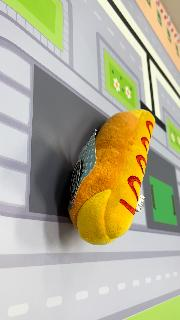hotdog: (68, 108, 156, 246)
